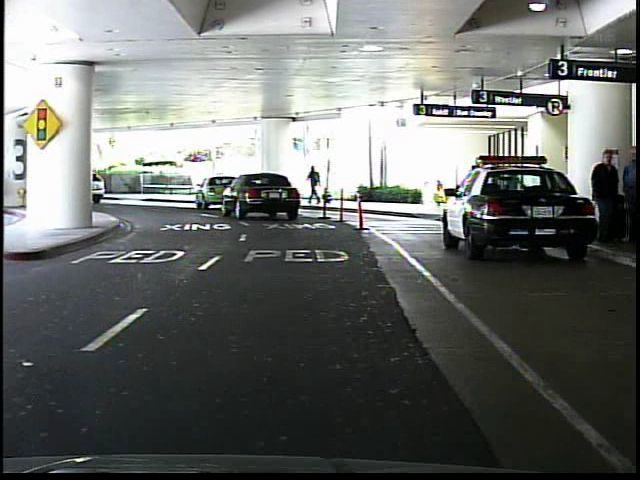person: (590, 144, 624, 246), (615, 145, 640, 251), (307, 160, 327, 205)
